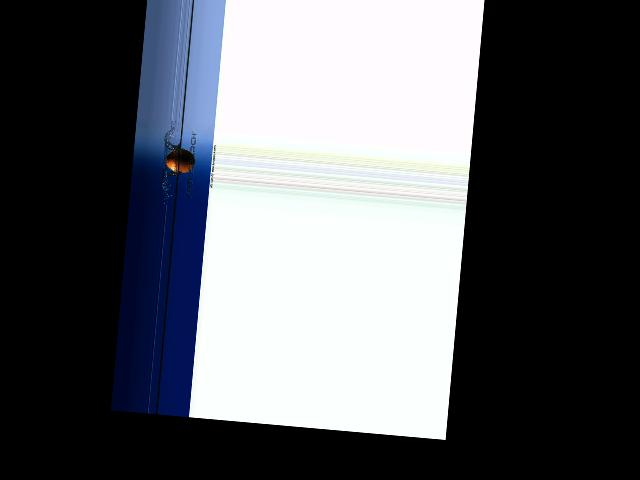egg: (164, 147, 195, 174)
